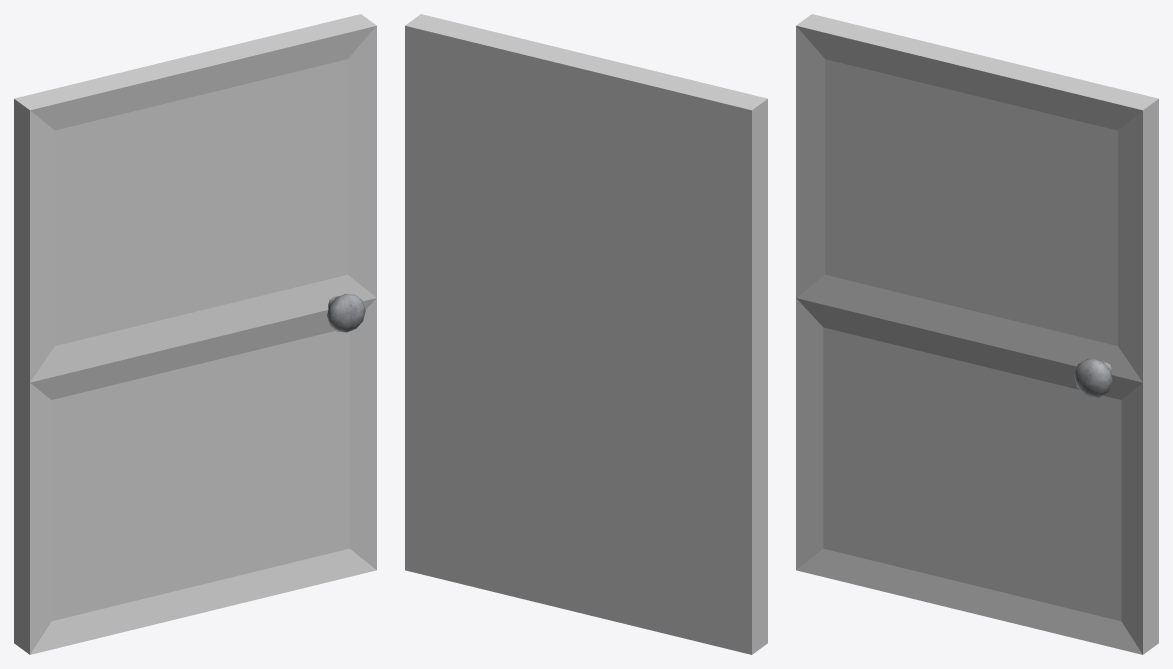
File: door.glb
3 renders of one model, left to right at view 1: azimuth 30°, elevation 25°; view 2: azimuth 150°, elevation 25°; view 3: azimuth 330°, elevation 25°, orthographic.
Parts seen in each view (by area): view 1: door, door_knob; view 2: door; view 3: door, door_knob.
Boxes of the visible parts, x1,y1,x2,y2 form: door: (14,14,376,654); door_knob: (327,293,365,332); door: (405,14,767,654); door: (796,14,1158,654); door_knob: (1074,358,1112,397).
Size of the model in its own units: 2 by 3 by 0.3242.
Materials: 1 (1 with a texture image).
